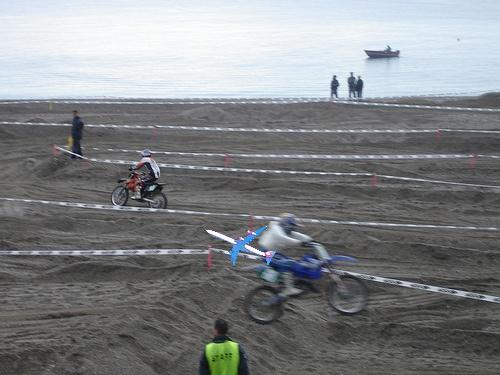tampered: (207, 227, 276, 265)
